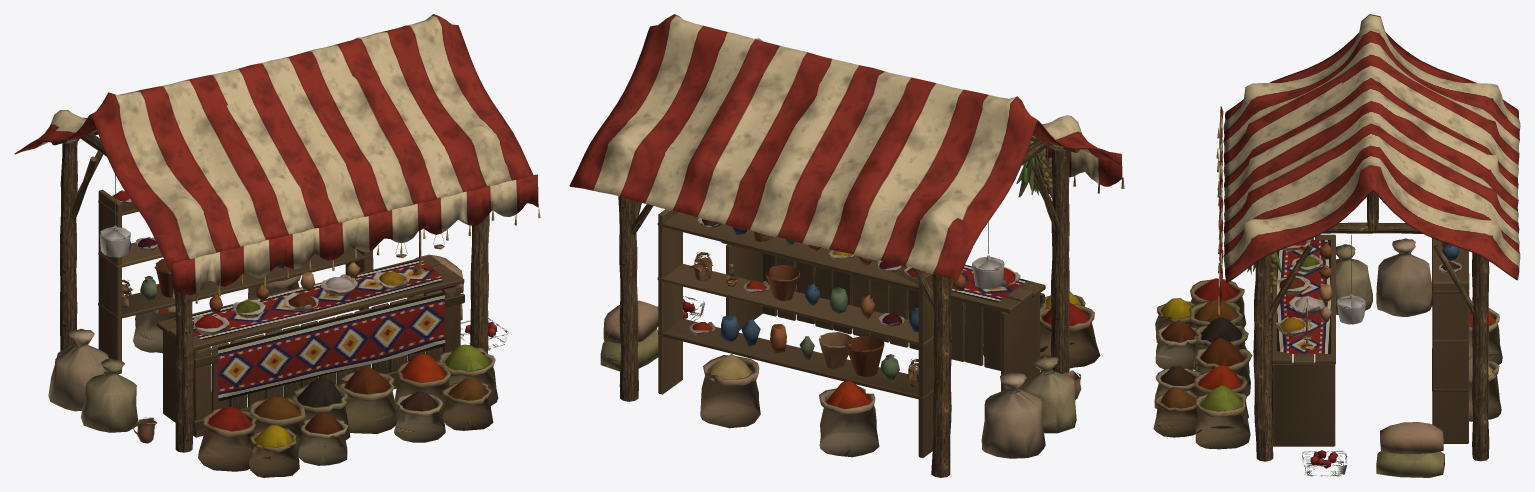
File: village-kiosk-1-v2-lite.glb
3 renders of one model, left to right at view 1: azimuth 30°, elevation 25°; view 2: azimuth 150°, elevation 25°; view 3: azimuth 270°, elevation 25°, orthographic. The views are drawn at different scales.
Visible parts, largest first — view 1: K1_Cloth, K1_Props, K1_Wood, K1_Sack; view 2: K1_Cloth, K1_Wood, K1_Sack, K1_Props; view 3: K1_Cloth, K1_Wood, K1_Sack, K1_Props.
Part boxes in pixels (<box>): K1_Cloth: <box>14,14,538,295</box>; K1_Props: <box>63,138,540,448</box>; K1_Wood: <box>51,130,489,452</box>; K1_Sack: <box>48,254,498,477</box>; K1_Cloth: <box>569,14,1122,280</box>; K1_Wood: <box>618,137,1080,477</box>; K1_Sack: <box>600,264,1100,458</box>; K1_Props: <box>657,141,1124,408</box>; K1_Cloth: <box>1218,14,1520,305</box>; K1_Wood: <box>1253,191,1489,461</box>; K1_Sack: <box>1153,238,1502,477</box>; K1_Props: <box>1160,128,1495,476</box>.
Size of the model in its own units: 4.09 by 3.08 by 3.4.
Materials: 4 (4 with a texture image).
